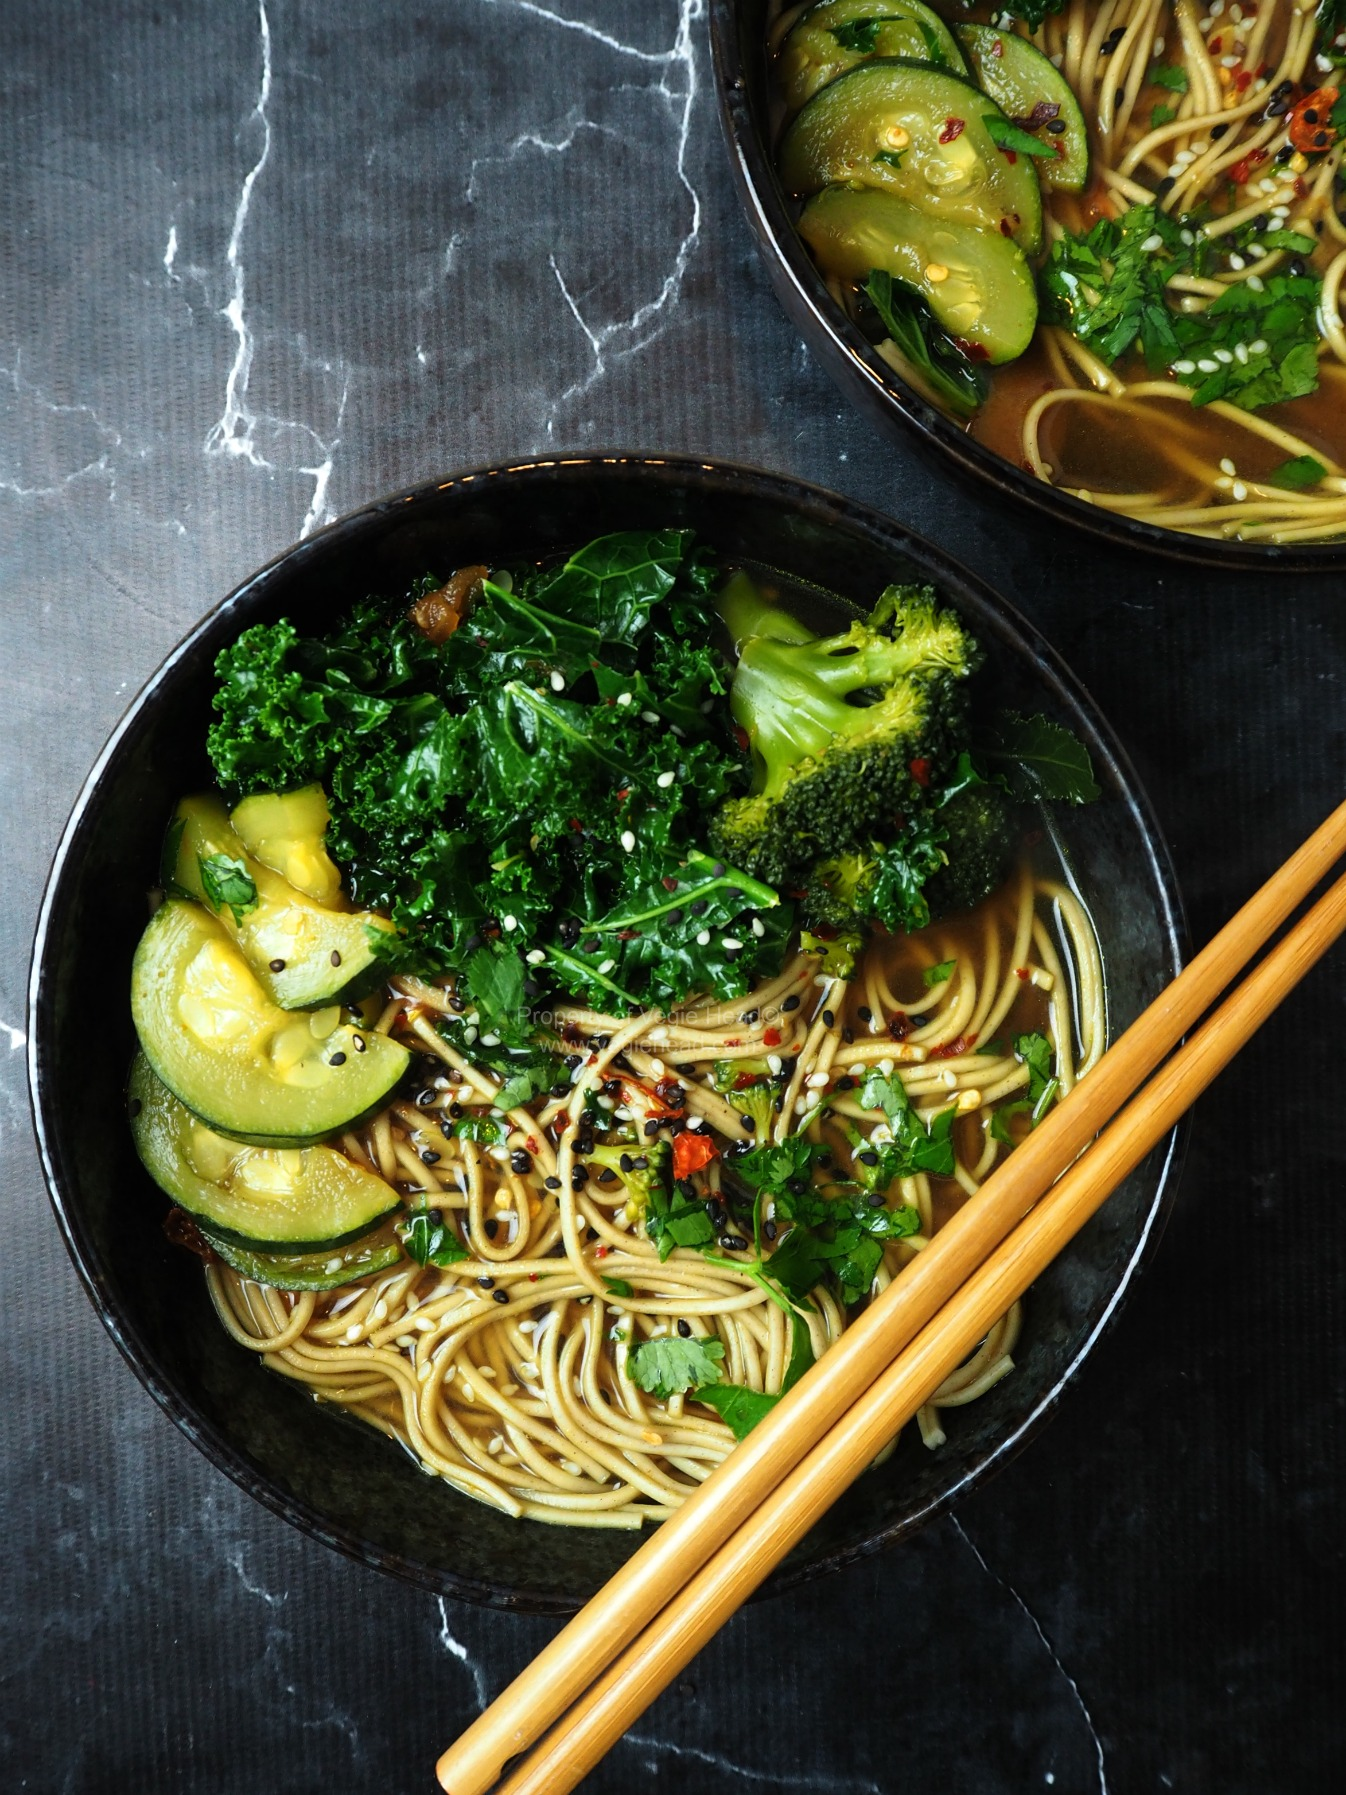Soba: (139, 835, 1111, 1524), (1029, 1, 1346, 277)
